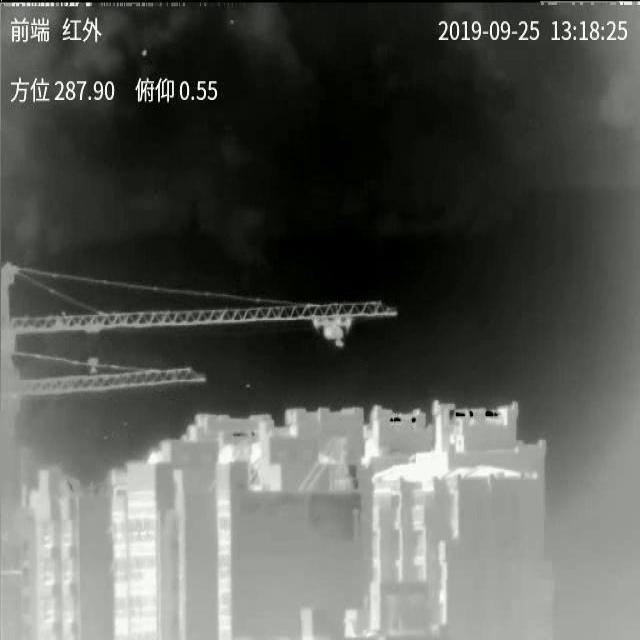drone: (312, 314, 353, 347)
